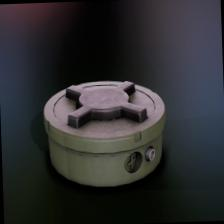PMN2: (27, 75, 176, 192)
